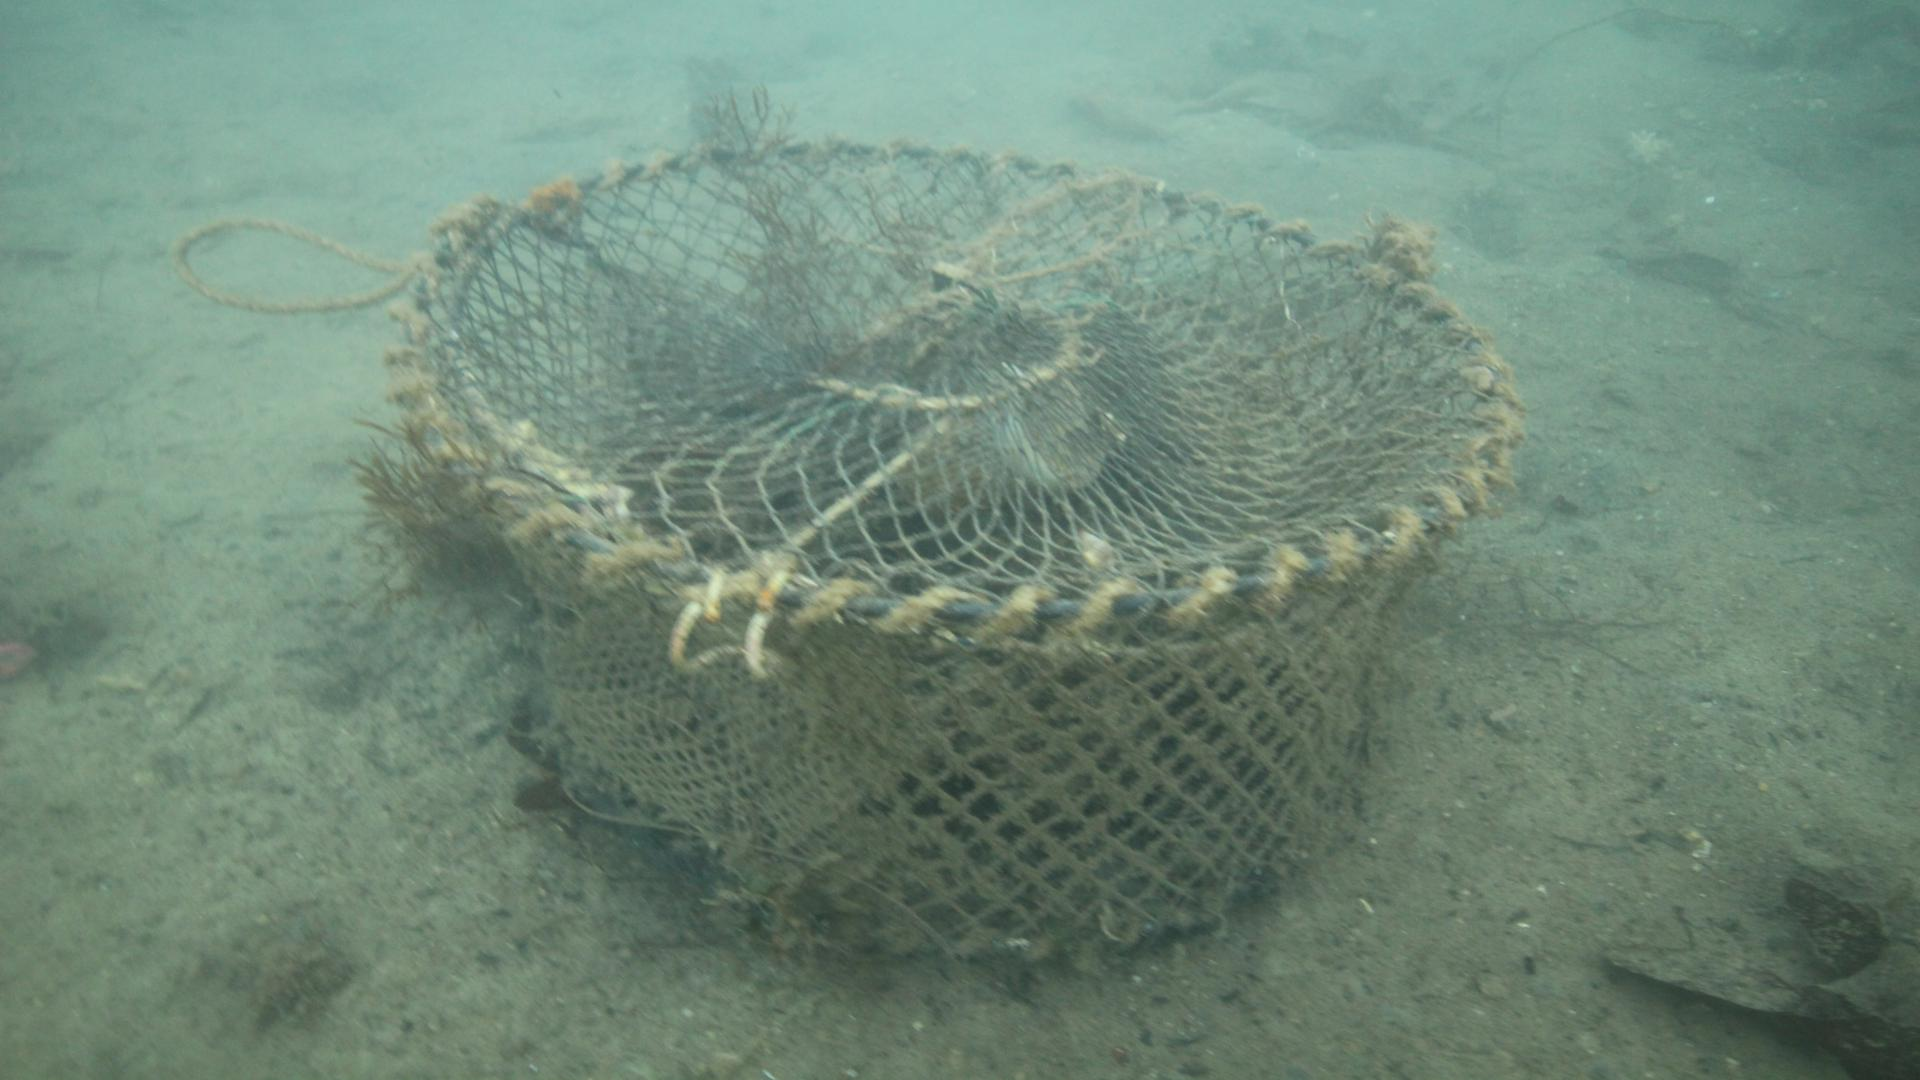circular fish trap: (378, 135, 1524, 963)
rope: (169, 214, 407, 319)
